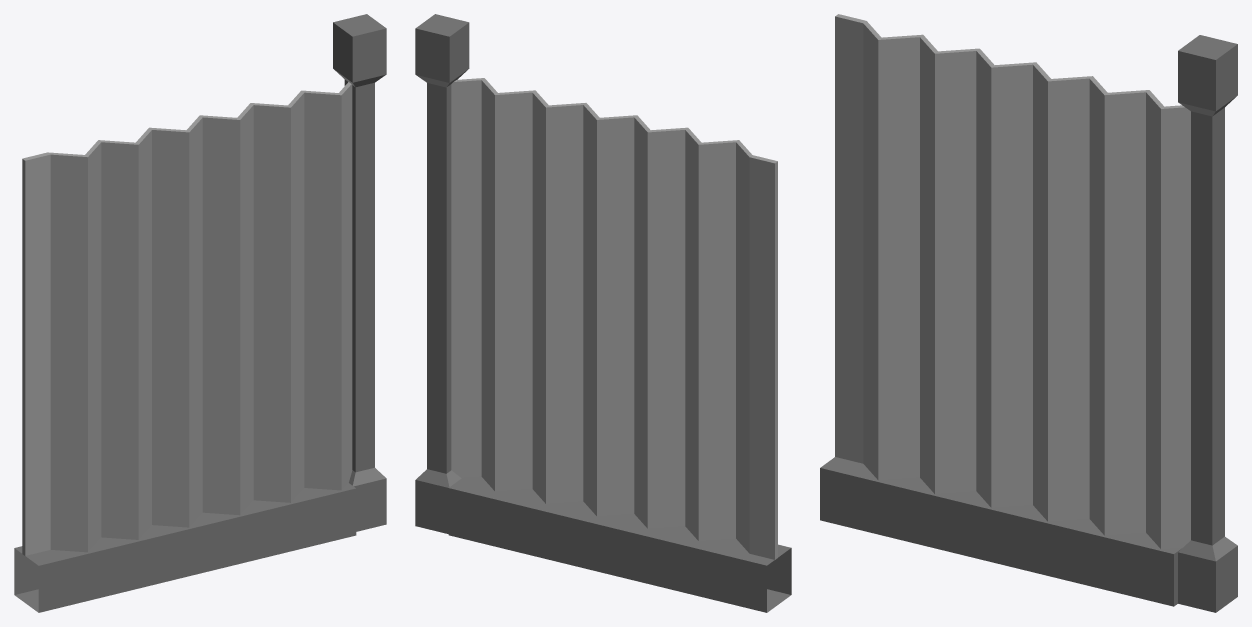
Rendered from Wall_Endcap.fbx.
3 views of the same model, side by side, from view 1: azimuth 30°, elevation 25°; view 2: azimuth 150°, elevation 25°; view 3: azimuth 330°, elevation 25° (orthographic). The views are drawn at different scales.
Visible parts, largest first — view 1: wall_endcap; view 2: wall_endcap; view 3: wall_endcap.
Boxes of the visible parts, left/top/right/bottom form: wall_endcap: left=14, top=14, right=386, bottom=612; wall_endcap: left=415, top=14, right=791, bottom=612; wall_endcap: left=820, top=14, right=1237, bottom=612.
Bounding box in the file's own units: 1321 × 1782 × 159.
